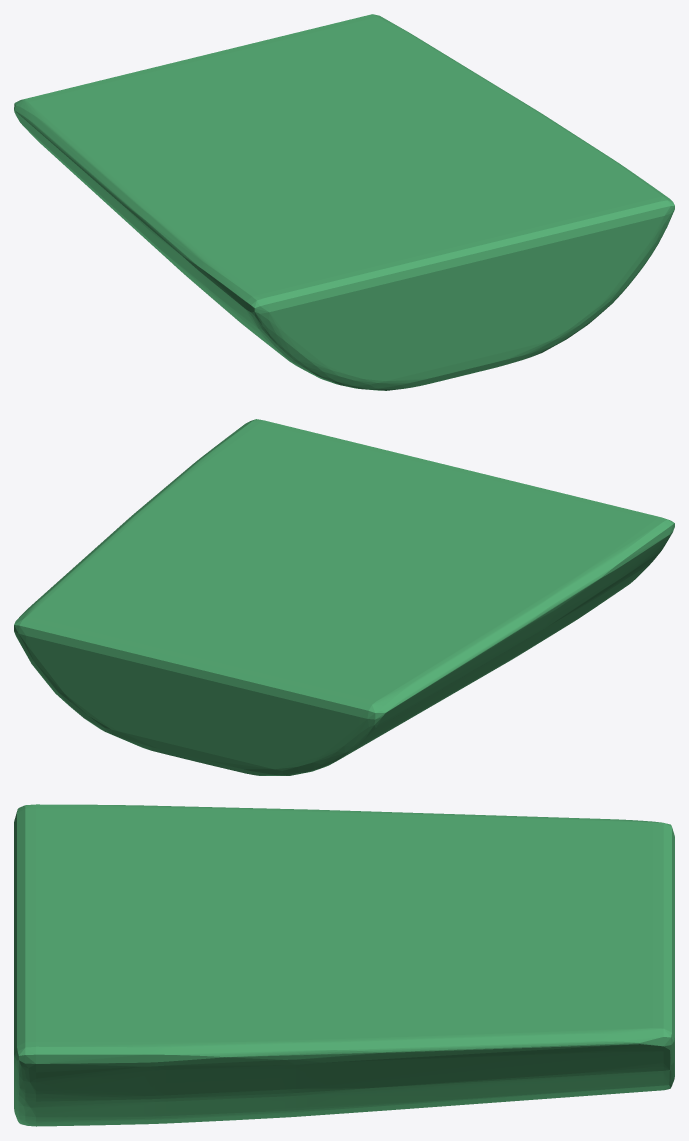
File: right_shoulder_yaw_link_part_3.obj
3 views of the same model, one above another, from view 1: azimuth 30°, elevation 25°; view 2: azimuth 150°, elevation 25°; view 3: azimuth 270°, elevation 25° (orthographic). The views are drawn at different scales.
Size of the model in its own units: 0.0562 by 0.0161 by 0.0627.
